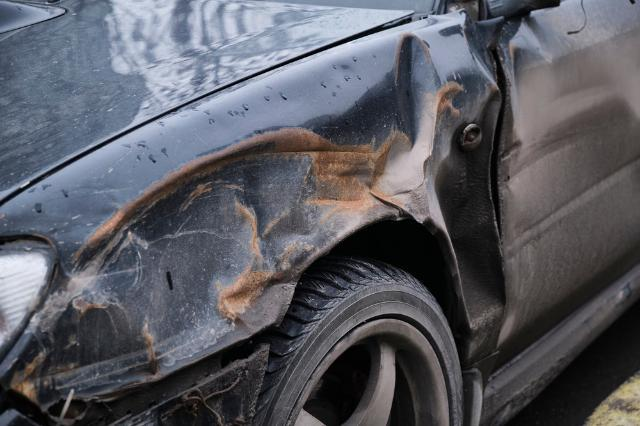dent: (12, 33, 510, 399)
